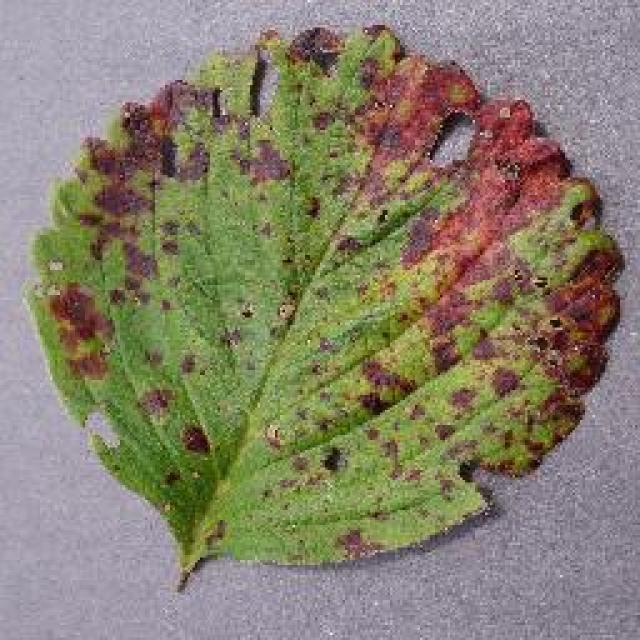Strawberry leaf scorch: (20, 52, 605, 410)
